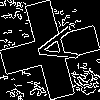A: (25, 25, 78, 70)
